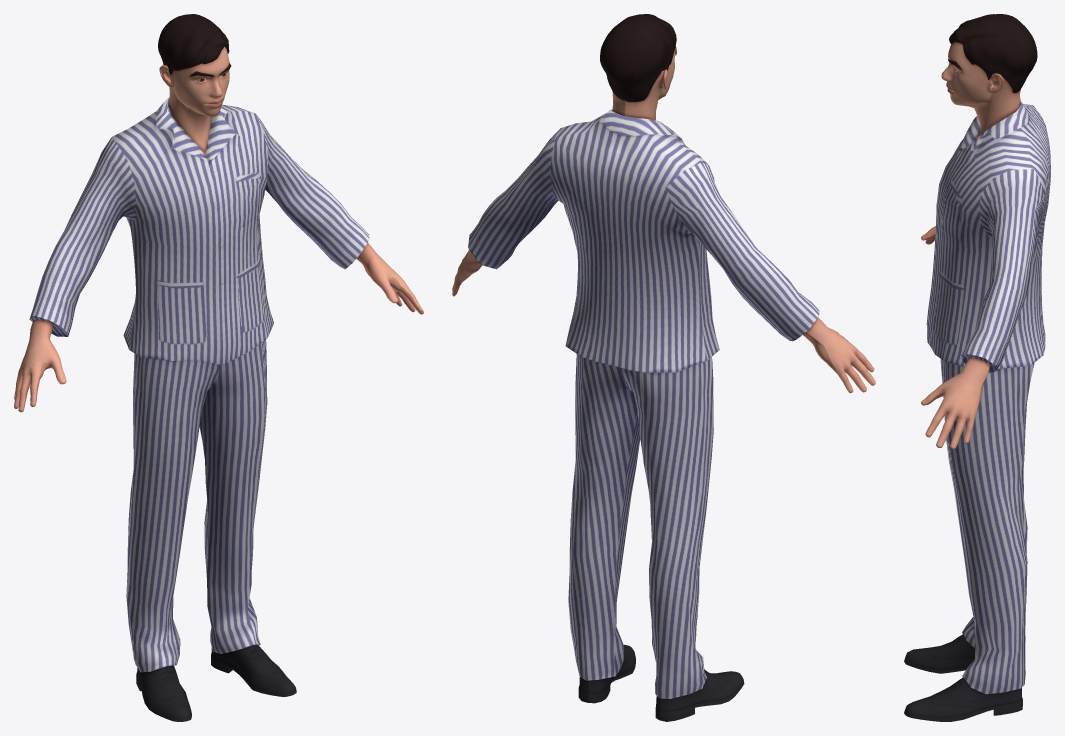
Rendered from patient.glb.
The picture shows the model from 3 angles, left to right: view 1: azimuth 30°, elevation 25°; view 2: azimuth 150°, elevation 25°; view 3: azimuth 270°, elevation 25°; orthographic projection. The views are drawn at different scales.
Visible parts, largest first — view 1: 3D游戏动画素材014; view 2: 3D游戏动画素材014; view 3: 3D游戏动画素材014.
Boxes of the visible parts, <box> form: 3D游戏动画素材014: <box>14,14,423,721</box>; 3D游戏动画素材014: <box>452,14,875,721</box>; 3D游戏动画素材014: <box>904,14,1050,721</box>.
Size of the model in its own units: 0.765 by 1.19 by 0.2362.
1 material, 1 textured.
